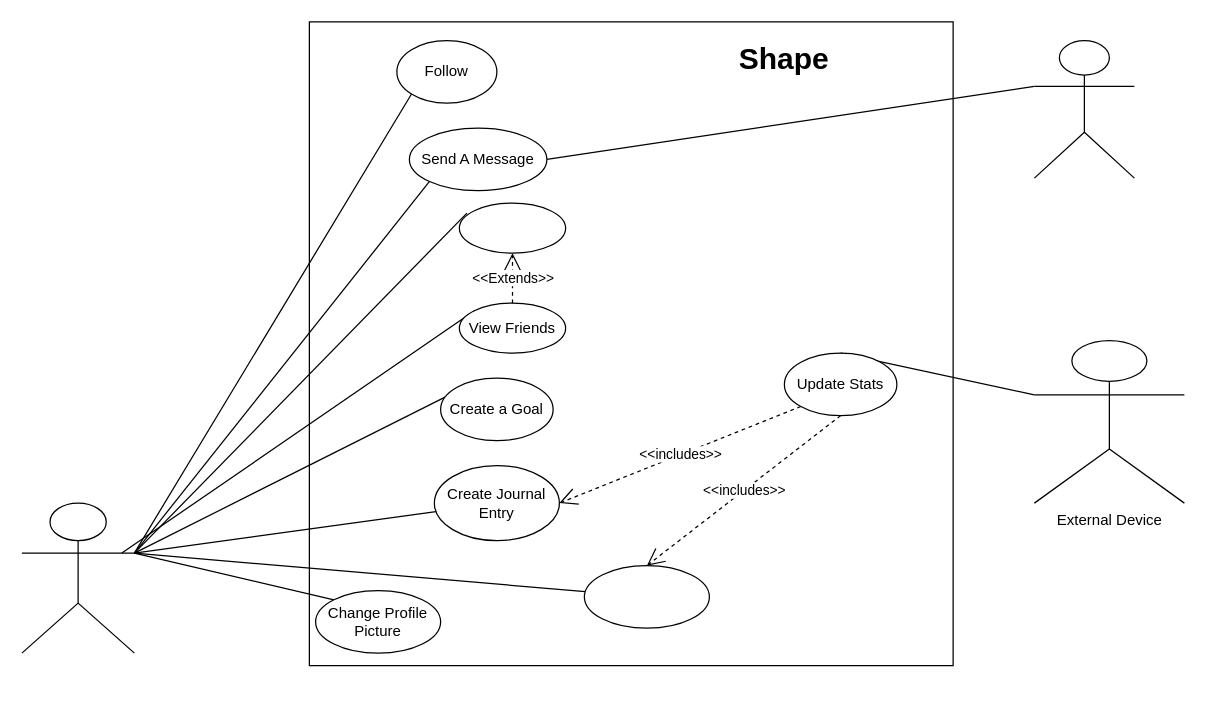
This 1206x701 diagram has some shape labels left out. Here are the shapes that lost their labels. From the top down, the centre of each, then its label:
At point 1083,108: "Friend".
At point 512,227: "View Feed".
At point 77,577: "User".
At point 646,596: "Create a Chart".
